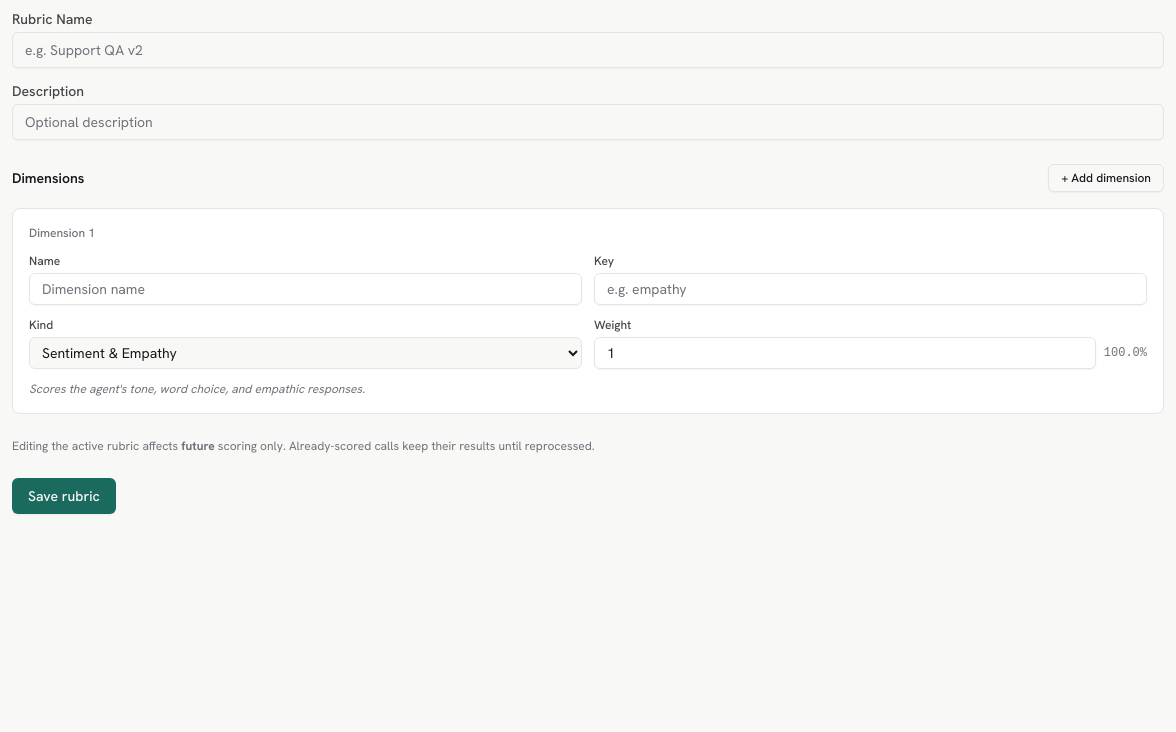
Test: RubricBuilder › switching kind to compliance reveals phrase input
The width and height of the screenshot is (1176, 732).
Select "Compliance" in the dropdown with test id "dim-kind" at (306, 353), box [29, 337, 582, 369]
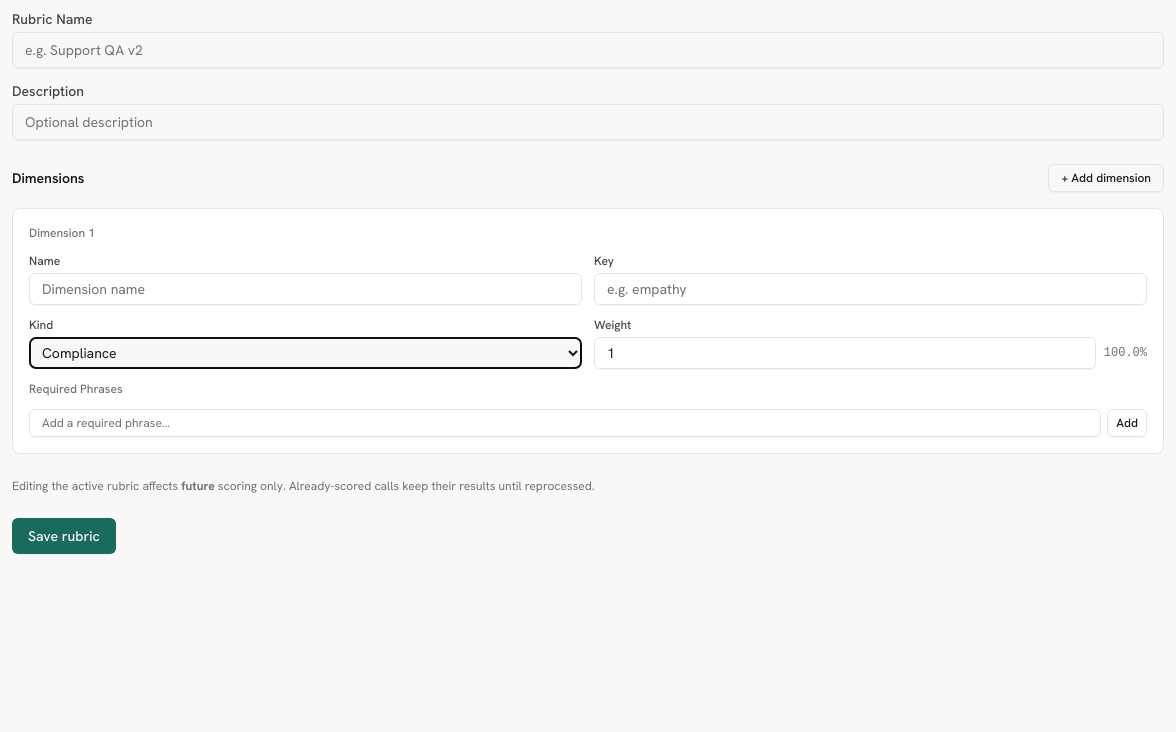
Check: the field with placeholder "Add a required phrase…" is shown, box [29, 409, 1101, 437]
